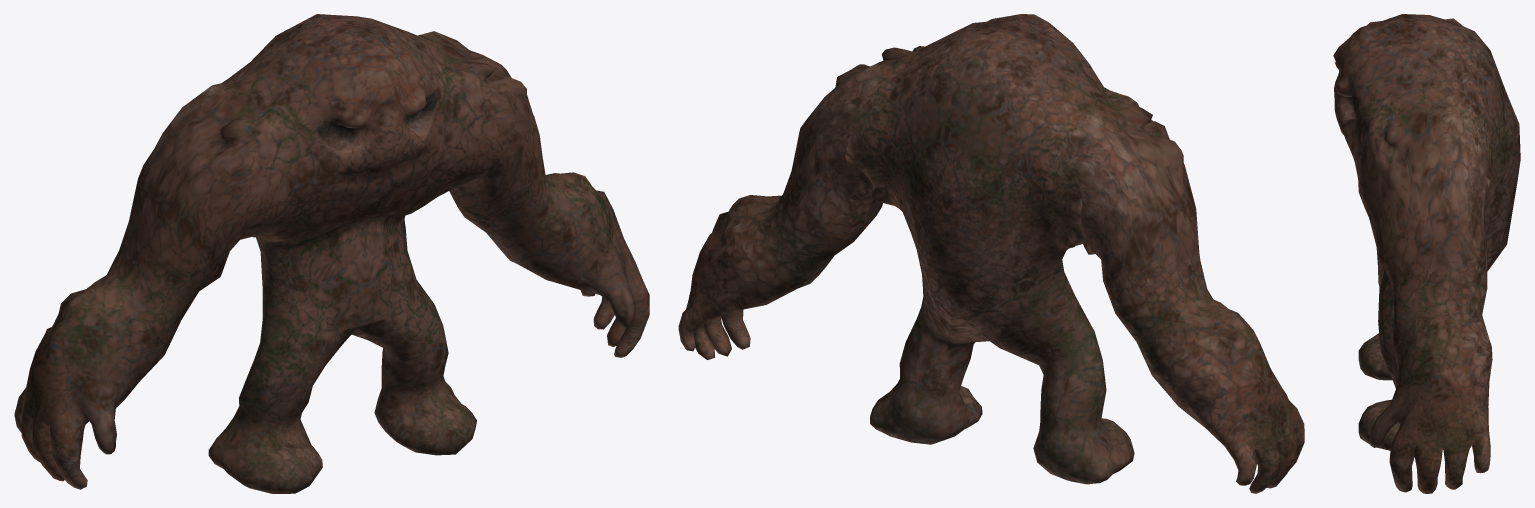
The model's file is creature-earth-elemental.glb.
The picture shows the model from 3 angles, left to right: view 1: azimuth 30°, elevation 25°; view 2: azimuth 150°, elevation 25°; view 3: azimuth 270°, elevation 25°; orthographic projection. The views are drawn at different scales.
Parts seen in each view (by area): view 1: creature-earth-elemental; view 2: creature-earth-elemental; view 3: creature-earth-elemental.
Part boxes in pixels (x1,y1,x2,y2): creature-earth-elemental: (14, 14, 649, 493); creature-earth-elemental: (678, 14, 1304, 493); creature-earth-elemental: (1333, 14, 1520, 493).
Size of the model in its own units: 1.6 by 1.09 by 0.4803.
Materials: 1 (1 with a texture image).
